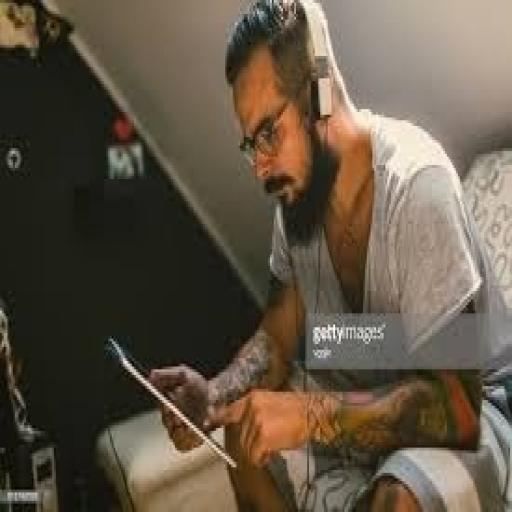listening_to_music: (146, 0, 506, 509)
